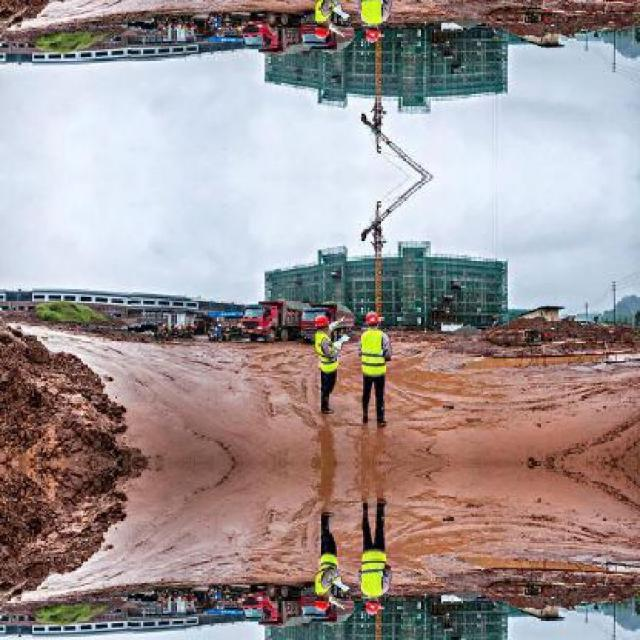Reflective-Jacket: (356, 548, 394, 604), (356, 328, 392, 382), (313, 549, 341, 605), (310, 331, 342, 375)
Safety-Helmet: (362, 309, 384, 326), (312, 314, 332, 331)
